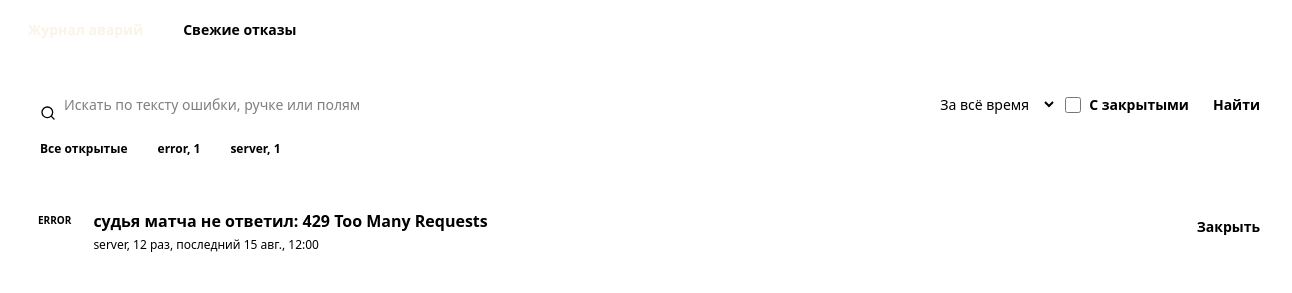
ошибки › живой список считает самые шумные ручки
This screenshot has width=1292, height=293.
Step 1. Click the button "Свежие отказы" → (240, 30), box top-left (167, 12), bottom-right (312, 48)
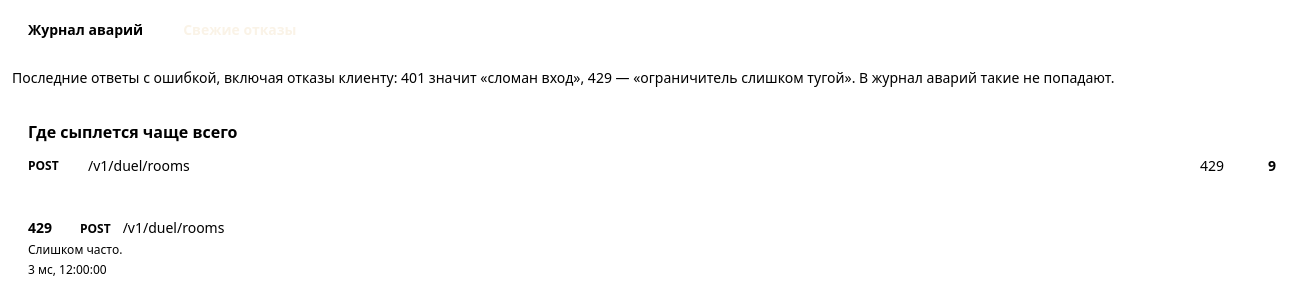
Expected: the text "429" is shown, top-left (12, 68), bottom-right (1115, 87)
Expected: the text "/v1/duel/rooms" is shown, top-left (88, 156), bottom-right (190, 175)
Expected: the text "Слишком часто." is shown, top-left (28, 241), bottom-right (122, 258)
